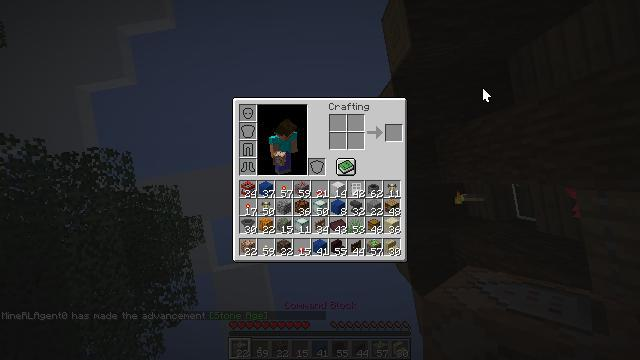cursor: (482, 87, 492, 103)
